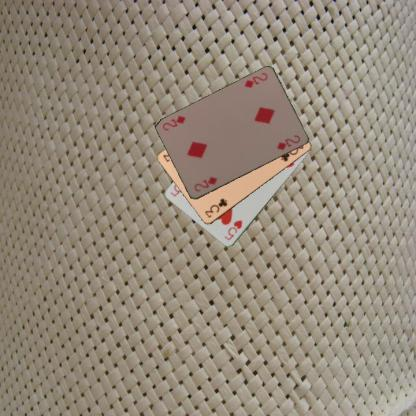2d: (242, 70, 269, 90), (191, 174, 219, 193)
3c: (202, 196, 229, 219)
5h: (222, 218, 244, 242)
